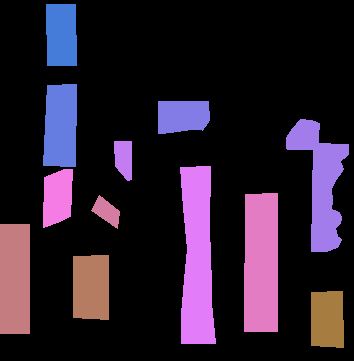parkingspot: (180, 166, 215, 343), (244, 193, 277, 331), (311, 143, 348, 251), (0, 224, 29, 333), (43, 84, 76, 166), (73, 255, 108, 319), (46, 4, 76, 65), (311, 291, 343, 347), (43, 169, 72, 227), (158, 101, 209, 133), (286, 119, 319, 149), (91, 195, 119, 228), (114, 141, 131, 180)
